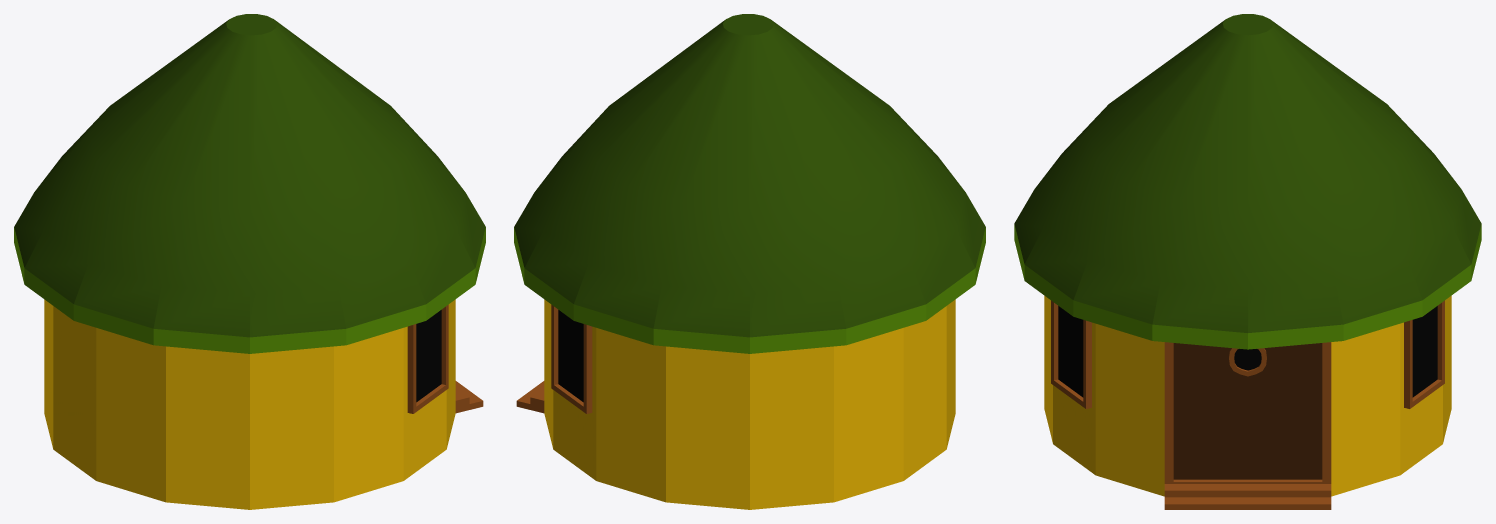
Rendered from Hut1.fbx.
3 renders of one model, left to right at view 1: azimuth 30°, elevation 25°; view 2: azimuth 150°, elevation 25°; view 3: azimuth 270°, elevation 25°, orthographic.
Parts seen in each view (by area): view 1: Hut1; view 2: Hut1; view 3: Hut1.
Boxes of the visible parts, box(x1,y1,x2,y2) form: Hut1: box(14, 14, 485, 509); Hut1: box(514, 14, 985, 509); Hut1: box(1014, 14, 1481, 509).
Size of the model in its own units: 553 by 517 by 556.
